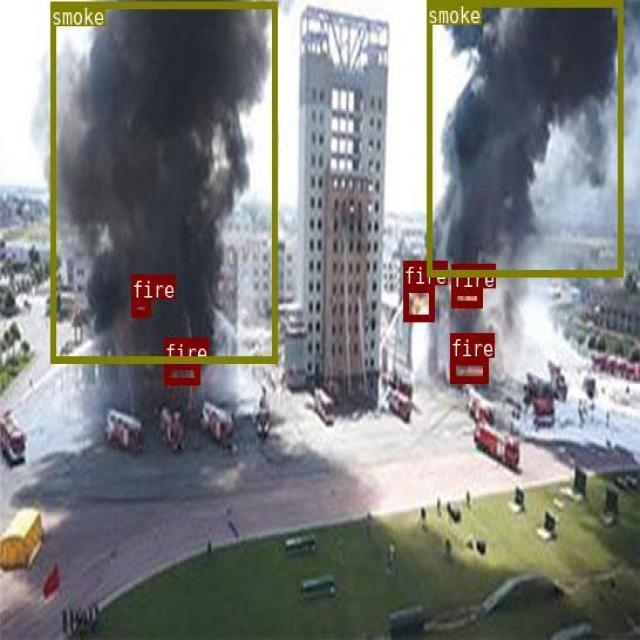fire: (403, 284, 433, 320), (450, 357, 488, 381), (164, 362, 199, 384), (450, 287, 481, 307), (131, 298, 150, 315)
smoke: (50, 1, 276, 362), (426, 0, 622, 275)
